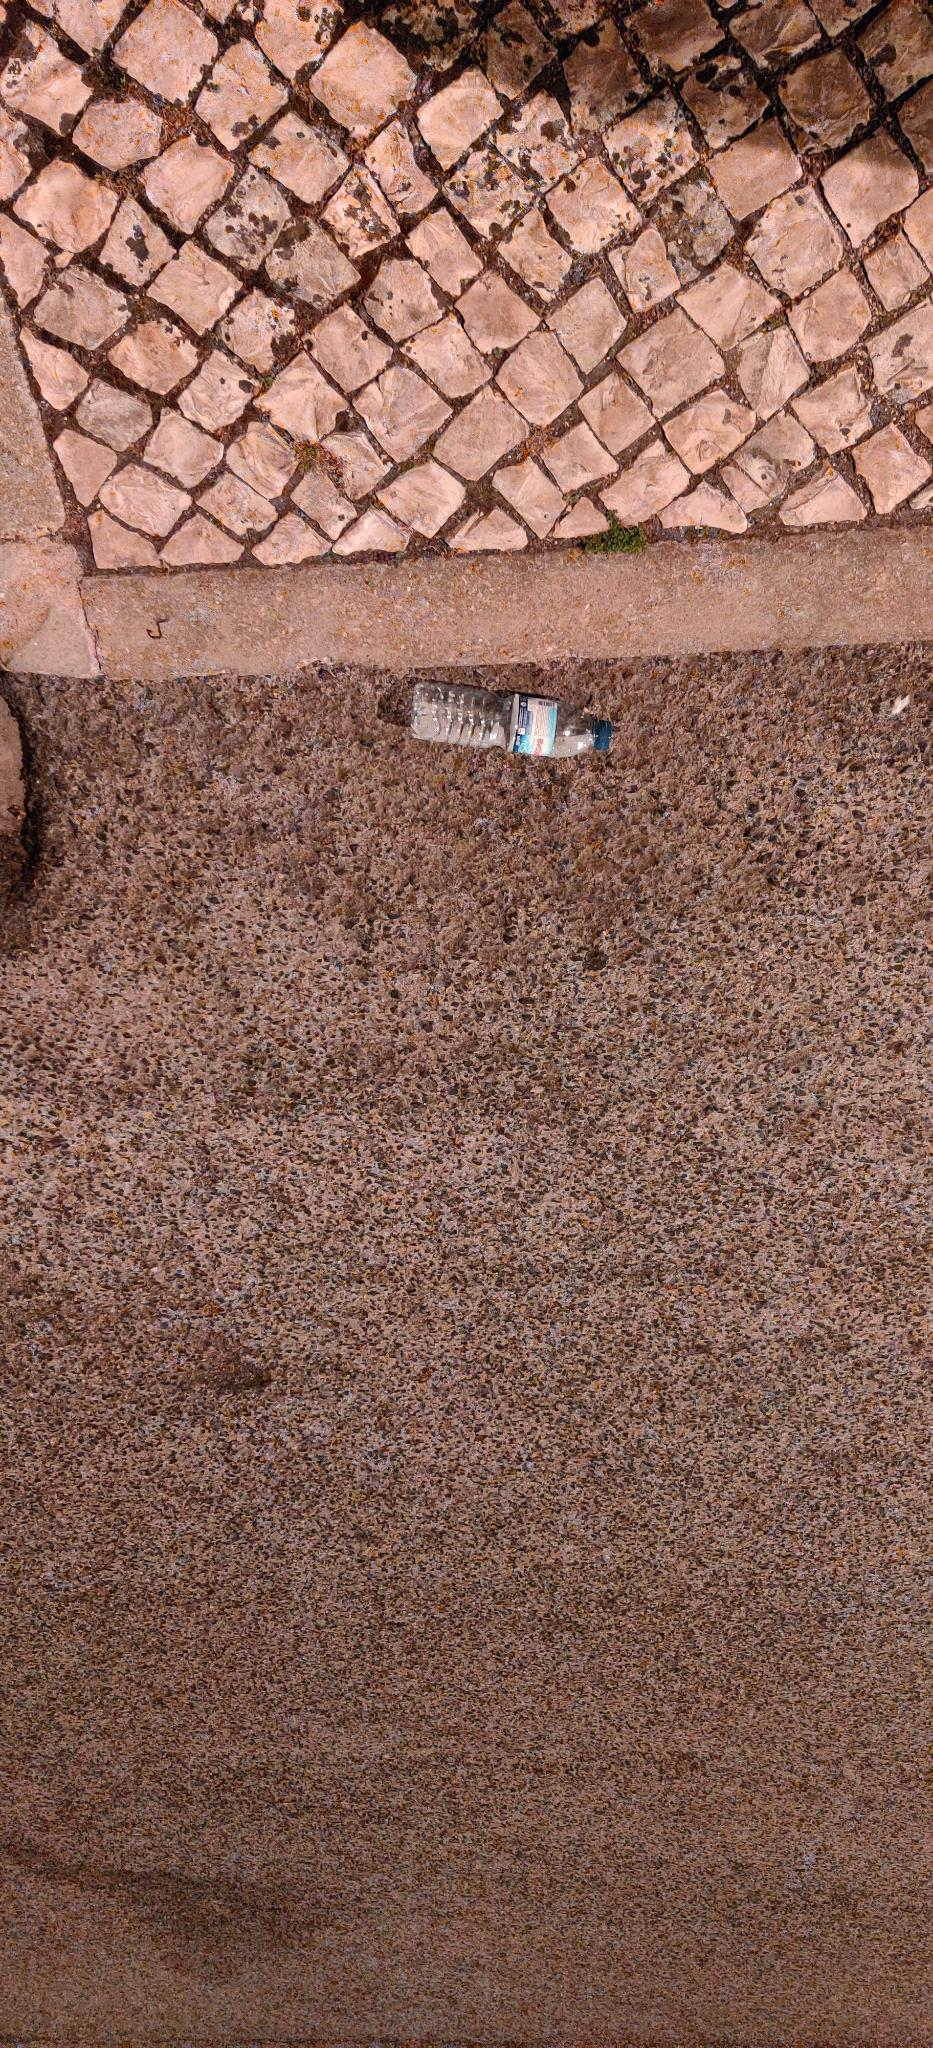Plastic: (388, 657, 665, 773)
